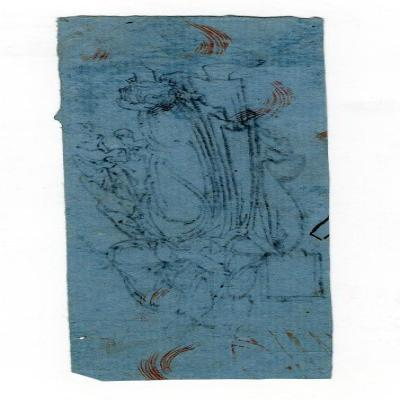graphics: (54, 16, 334, 384)
